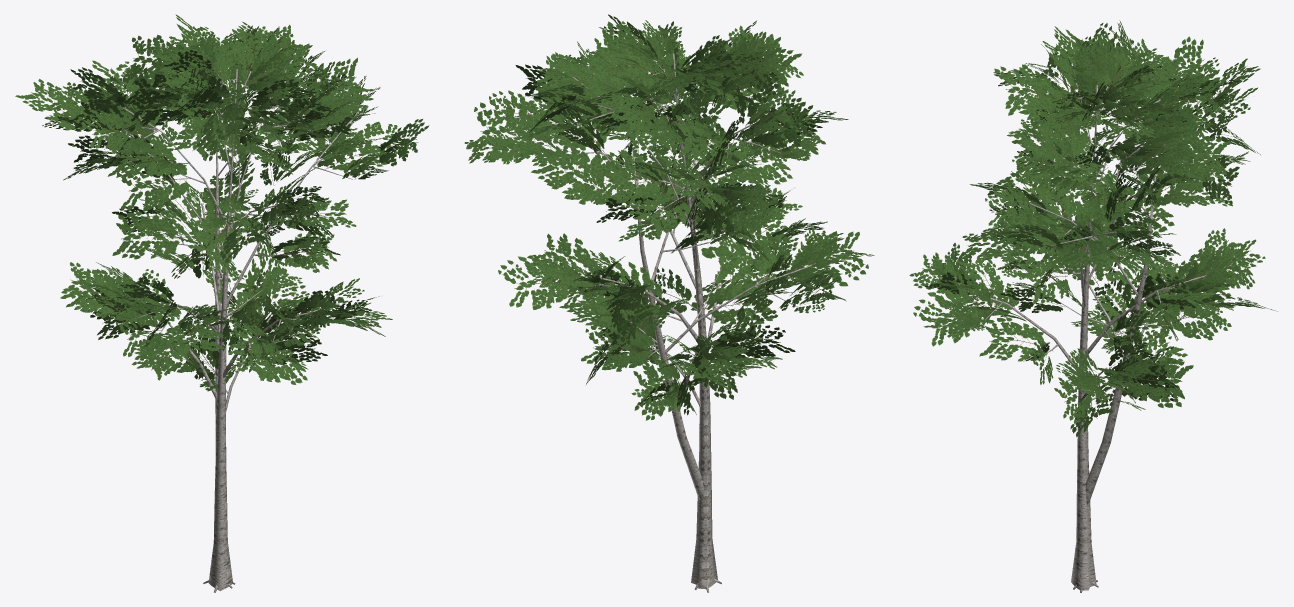
The model's file is PaperBirch.fbx.
The picture shows the model from 3 angles, left to right: view 1: azimuth 30°, elevation 25°; view 2: azimuth 150°, elevation 25°; view 3: azimuth 270°, elevation 25°; orthographic projection. The views are drawn at different scales.
Visible parts, largest first — view 1: Foliage, Bark; view 2: Foliage, Bark; view 3: Foliage, Bark.
Boxes of the visible parts, x1,y1,x2,y2 form: Foliage: (15, 14, 429, 391); Bark: (94, 61, 358, 592); Foliage: (464, 14, 874, 420); Bark: (527, 53, 815, 592); Foliage: (909, 20, 1277, 437); Bark: (957, 75, 1206, 592).
Bounding box in the file's own units: 11.49 × 17.11 × 10.63.
